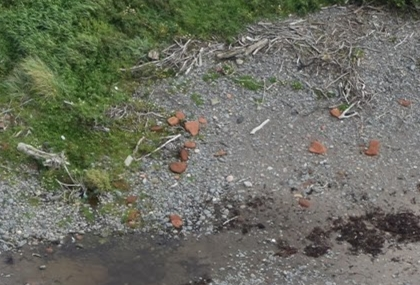scattered_barrel: (144, 104, 232, 236), (305, 92, 420, 164)
straight_bar: (250, 116, 274, 139)
